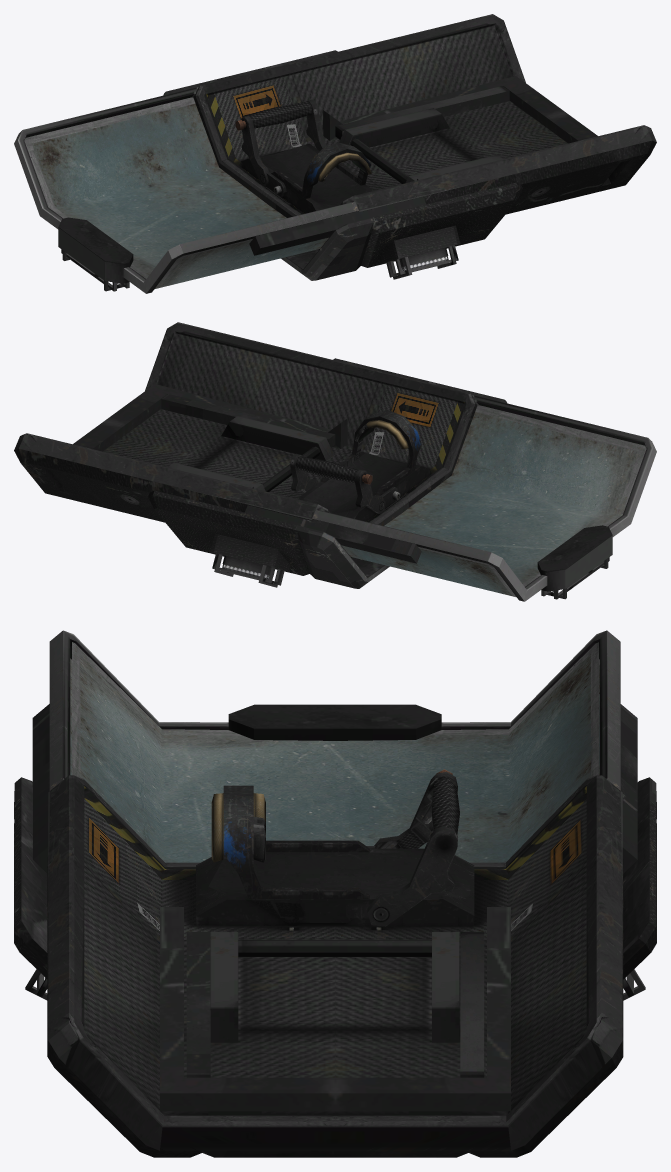
Rendered from t6_wpn_shield_pickup_world_LOD0.obj.
3 renders of one model, top to bottom at view 1: azimuth 30°, elevation 25°; view 2: azimuth 150°, elevation 25°; view 3: azimuth 270°, elevation 25°, orthographic. The views are drawn at different scales.
Parts seen in each view (by area): view 1: mtl_t6_wpn_shield, mtl_t6_wpn_shield_glass, mtl_t6_wpn_shield_nodecal; view 2: mtl_t6_wpn_shield, mtl_t6_wpn_shield_glass, mtl_t6_wpn_shield_nodecal; view 3: mtl_t6_wpn_shield, mtl_t6_wpn_shield_glass, mtl_t6_wpn_shield_nodecal.
Part boxes in pixels (x1,y1,x2,y2): mtl_t6_wpn_shield: (14,14,656,293); mtl_t6_wpn_shield_glass: (24,97,328,289); mtl_t6_wpn_shield_nodecal: (164,50,337,268); mtl_t6_wpn_shield: (14,322,656,601); mtl_t6_wpn_shield_glass: (341,405,646,597); mtl_t6_wpn_shield_nodecal: (333,358,505,577); mtl_t6_wpn_shield: (14,630,656,1157); mtl_t6_wpn_shield_glass: (70,642,599,862); mtl_t6_wpn_shield_nodecal: (21,777,649,952).
Bounding box in the file's own units: 135 × 26.52 × 87.16.
